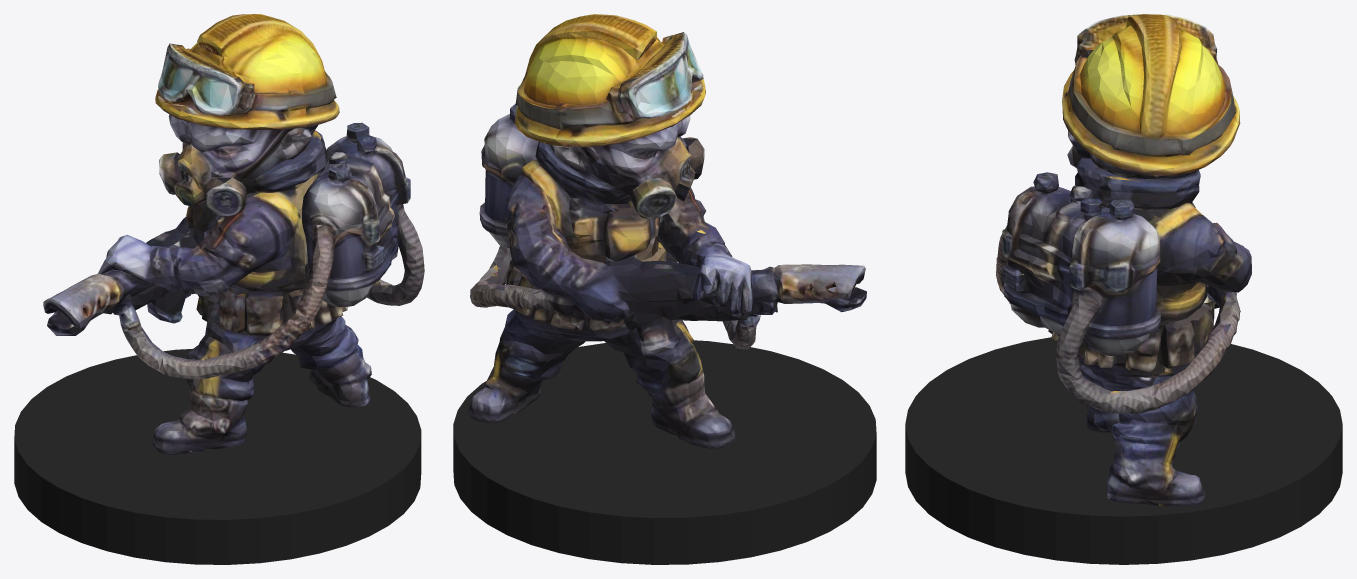
File: wb-neophyte-gunner.glb
3 renders of one model, left to right at view 1: azimuth 30°, elevation 25°; view 2: azimuth 150°, elevation 25°; view 3: azimuth 270°, elevation 25°, orthographic. The views are drawn at different scales.
Parts seen in each view (by area): view 1: figure, base; view 2: figure, base; view 3: figure, base.
Part boxes in pixels (x1=…): figure: x1=43, y1=14, x2=424, y2=454; base: x1=14, y1=349, x2=421, y2=564; figure: x1=468, y1=14, x2=866, y2=448; base: x1=453, y1=340, x2=876, y2=564; figure: x1=996, y1=14, x2=1251, y2=506; base: x1=905, y1=337, x2=1342, y2=564.
Size of the model in its own units: 1 by 1.17 by 0.9843.
2 materials, 1 textured.
